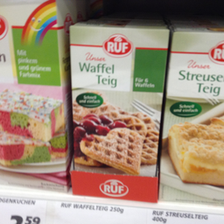cake: (67, 21, 170, 207), (159, 28, 224, 193)
